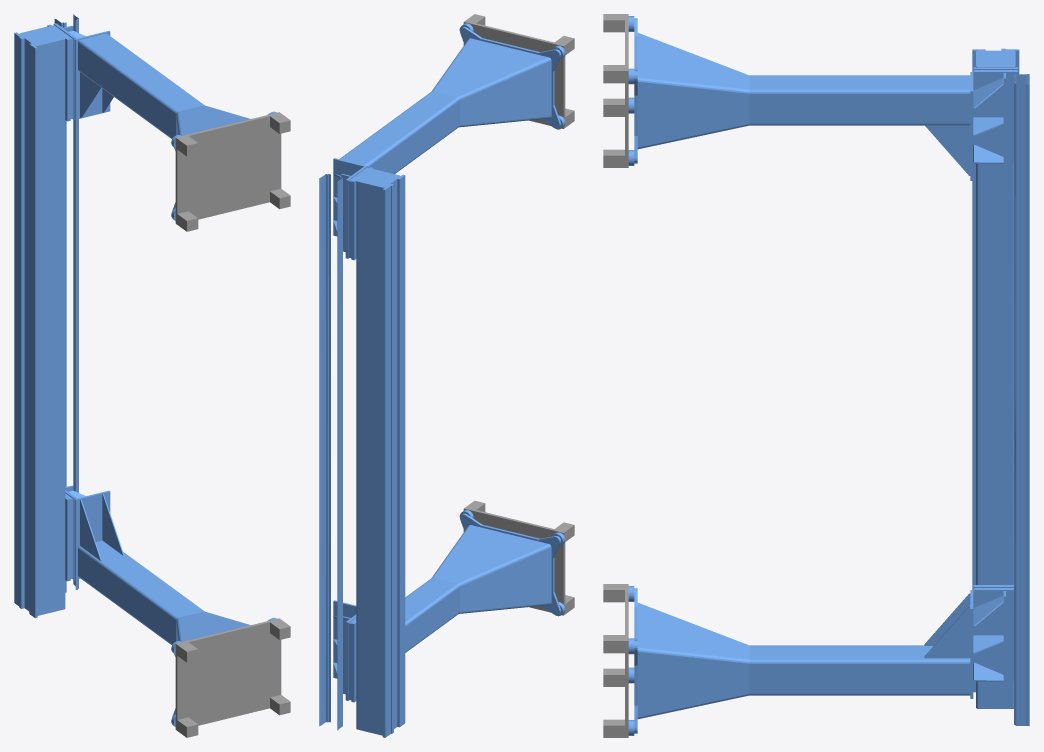
Rendered from VIFS42.001.dae.
The picture shows the model from 3 angles, left to right: view 1: azimuth 30°, elevation 25°; view 2: azimuth 150°, elevation 25°; view 3: azimuth 270°, elevation 25°; orthographic projection. The views are drawn at different scales.
Visible parts, largest first — view 1: visual_leg; view 2: visual_leg; view 3: visual_leg.
Part boxes in pixels (<box>): visual_leg: <box>14,14,290,737</box>; visual_leg: <box>319,14,574,737</box>; visual_leg: <box>603,14,1029,737</box>.
Size of the model in its own units: 1.24 by 3.79 by 6.57.
